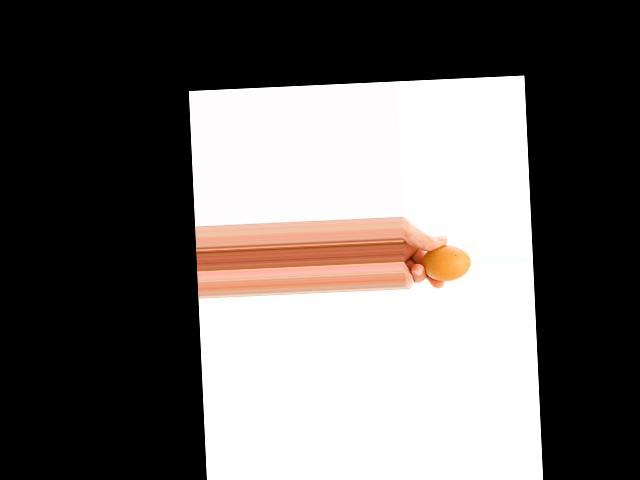egg: (422, 244, 471, 282)
